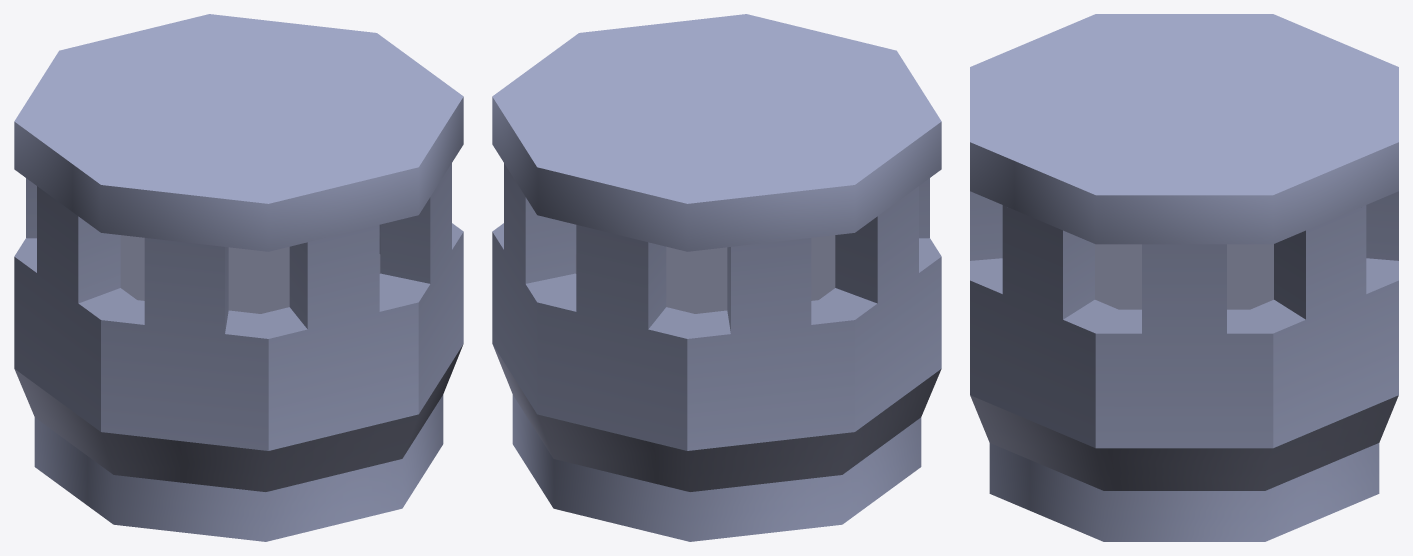
File: tower-watch.glb
3 renders of one model, left to right at view 1: azimuth 30°, elevation 25°; view 2: azimuth 150°, elevation 25°; view 3: azimuth 270°, elevation 25°, orthographic. The views are drawn at different scales.
Parts seen in each view (by area): view 1: tower-watch; view 2: tower-watch; view 3: tower-watch.
Boxes of the visible parts, x1,y1,x2,y2 form: tower-watch: (14, 14, 463, 541); tower-watch: (492, 14, 941, 541); tower-watch: (970, 14, 1398, 541).
Size of the model in its own units: 3.05 by 2.78 by 3.05.
Materials: 1 (1 with a texture image).
